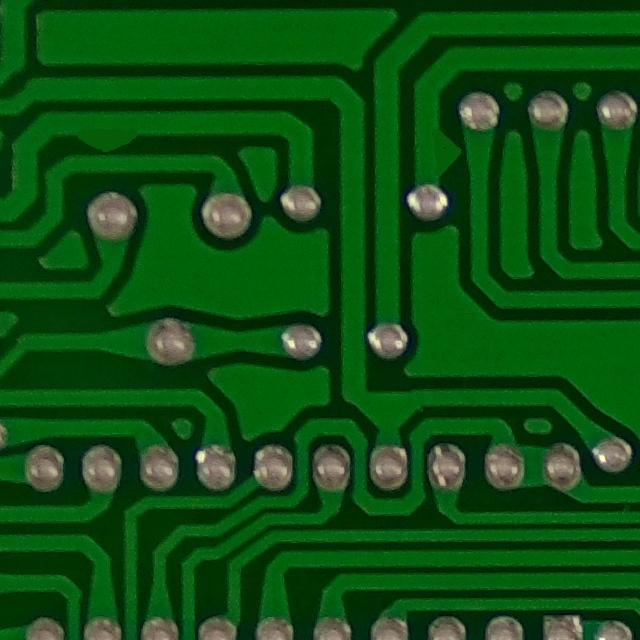spur: (67, 116, 152, 167), (413, 114, 463, 192)
